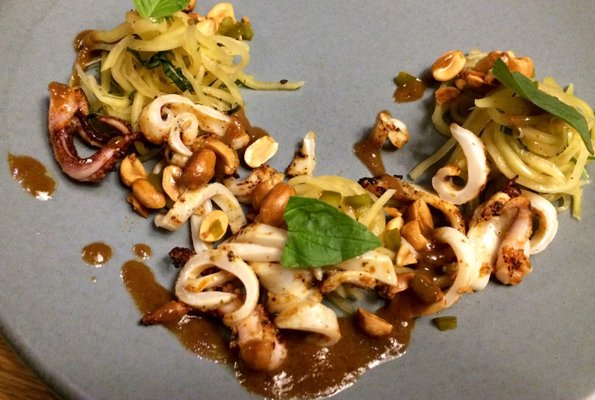sandwich: (9, 6, 590, 398)
